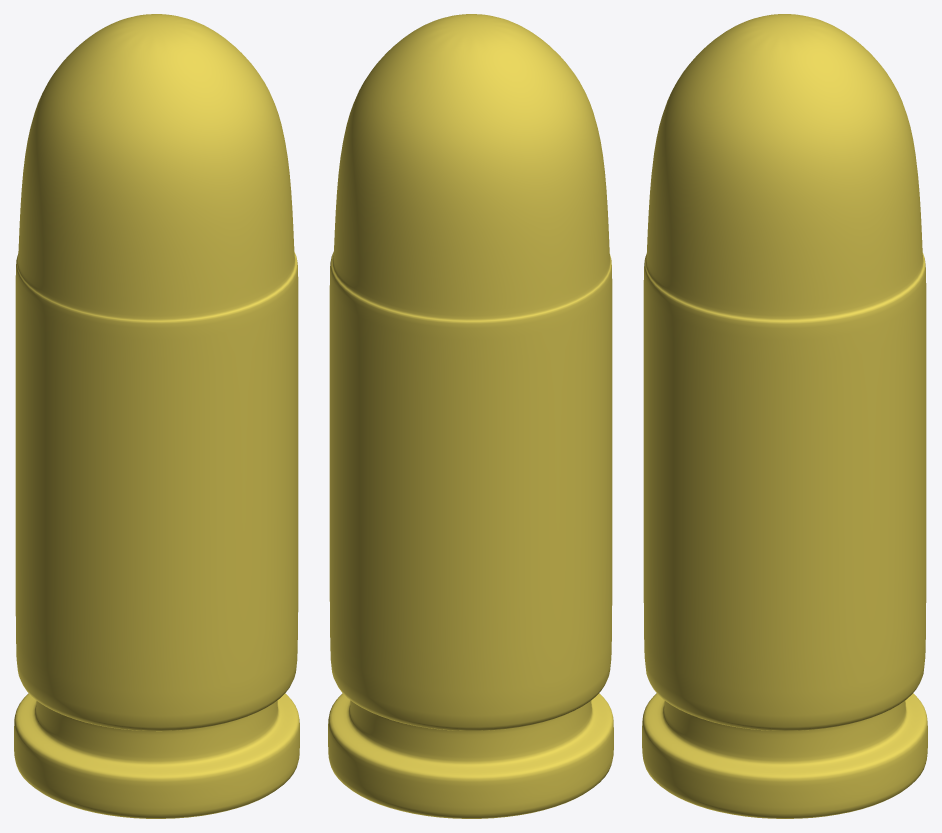
File: Bala.fbx
3 renders of one model, left to right at view 1: azimuth 30°, elevation 25°; view 2: azimuth 150°, elevation 25°; view 3: azimuth 270°, elevation 25°, orthographic.
Parts seen in each view (by area): view 1: Bala; view 2: Bala; view 3: Bala.
Boxes of the visible parts, <box> form: Bala: <box>14,14,299,818</box>; Bala: <box>328,14,613,818</box>; Bala: <box>642,14,927,818</box>.
Bounding box in the file's own units: 194 × 551 × 194.
